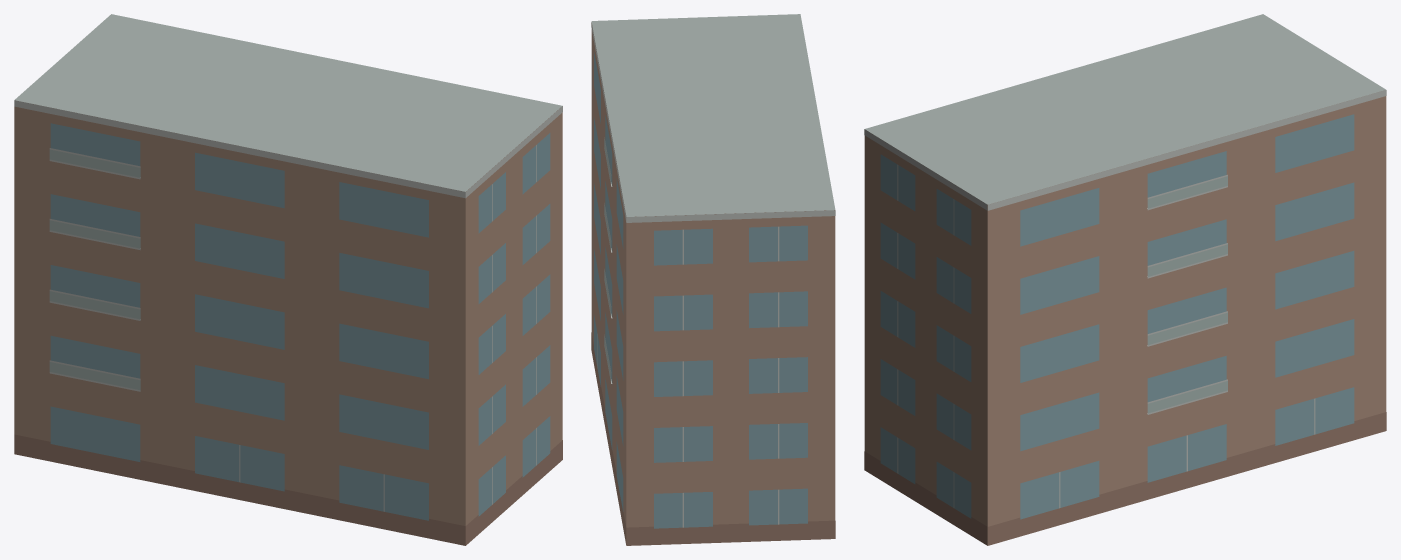
File: survey-upis-33014401.glb
3 renders of one model, left to right at view 1: azimuth 30°, elevation 25°; view 2: azimuth 150°, elevation 25°; view 3: azimuth 270°, elevation 25°, orthographic. The views are drawn at different scales.
Visible parts, largest first — view 1: survey-upis-33014401.tmp; view 2: survey-upis-33014401.tmp; view 3: survey-upis-33014401.tmp.
Part boxes in pixels (left/top/right/bottom): survey-upis-33014401.tmp: left=14, top=14, right=562, bottom=545; survey-upis-33014401.tmp: left=591, top=14, right=835, bottom=545; survey-upis-33014401.tmp: left=864, top=14, right=1386, bottom=545.
Size of the model in its own units: 16.2 by 13.5 by 18.73.
